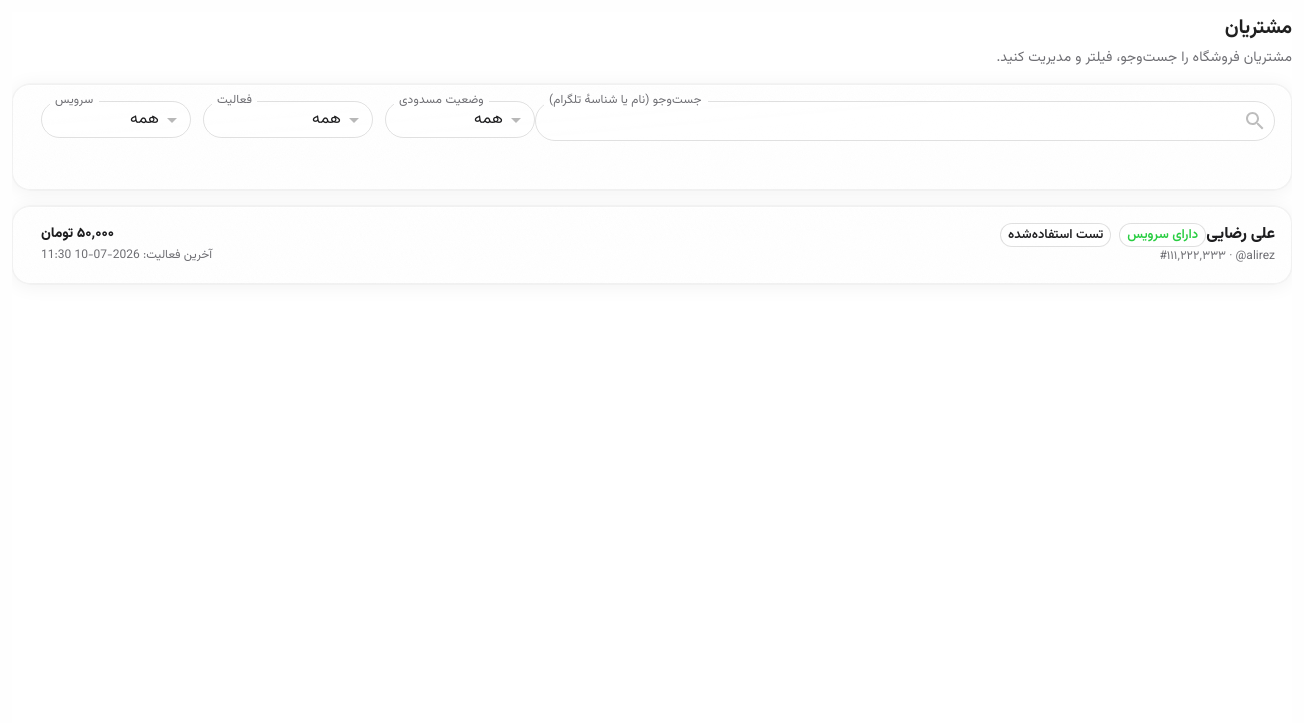
Test: storefront customers list › deep-links a customer row to the detail page
Step 1. Click the button with aria-label "باز کردن مشتری علی رضایی" → (1241, 234), box x1=13 y1=207 x2=1291 y2=283
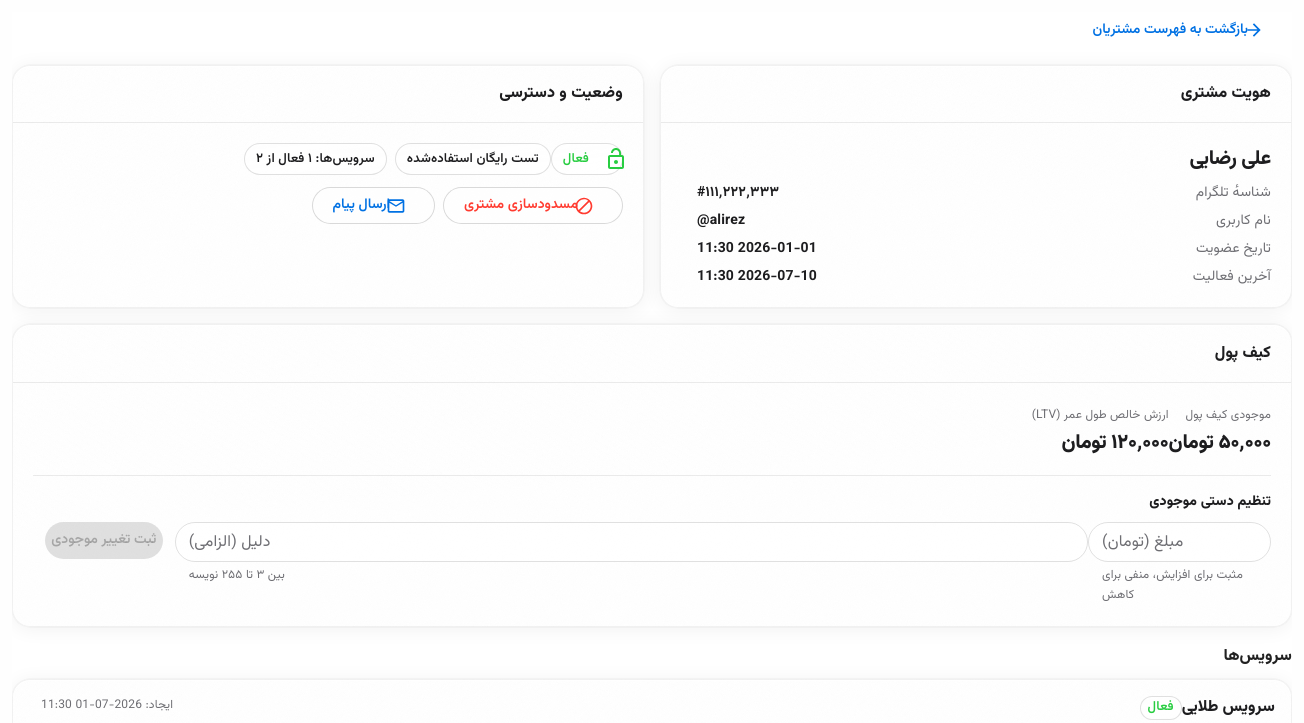
Result: the heading "هویت مشتری" is shown at x1=1181 y1=80 x2=1271 y2=108
Result: the heading "وضعیت و دسترسی" is shown at x1=499 y1=80 x2=623 y2=108
